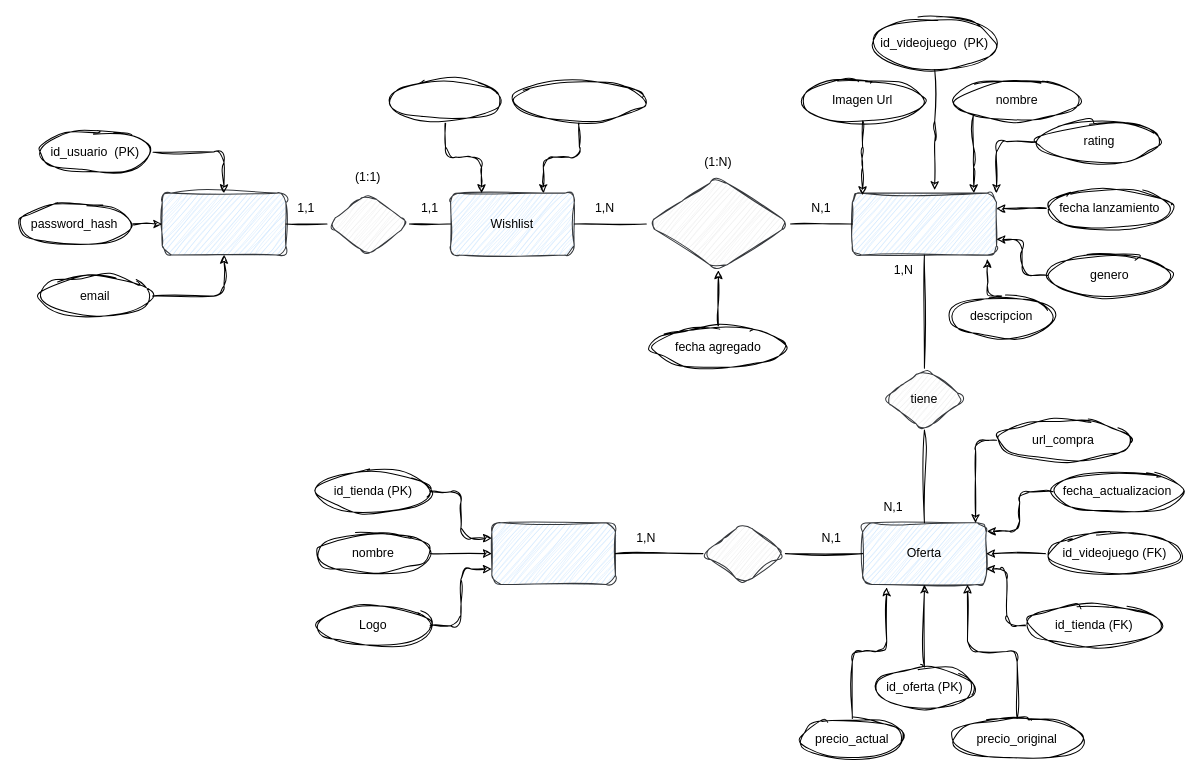
This 1200x778 diagram has some shape labels left out. The centre of each missing label's shape, as x and y in pixels:
"Contiene (WishlistItem)" goes at (718,223).
"id_usuario (FK)" goes at (445,100).
"id_wishlist (PK)" goes at (578,100).
"posee" goes at (367,223).
"Tienda" goes at (553,553).
"Usuario" goes at (223,223).
"vende" goes at (743,553).
"Videojuego" goes at (924,223).
